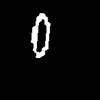chain: (31, 13, 49, 57)
